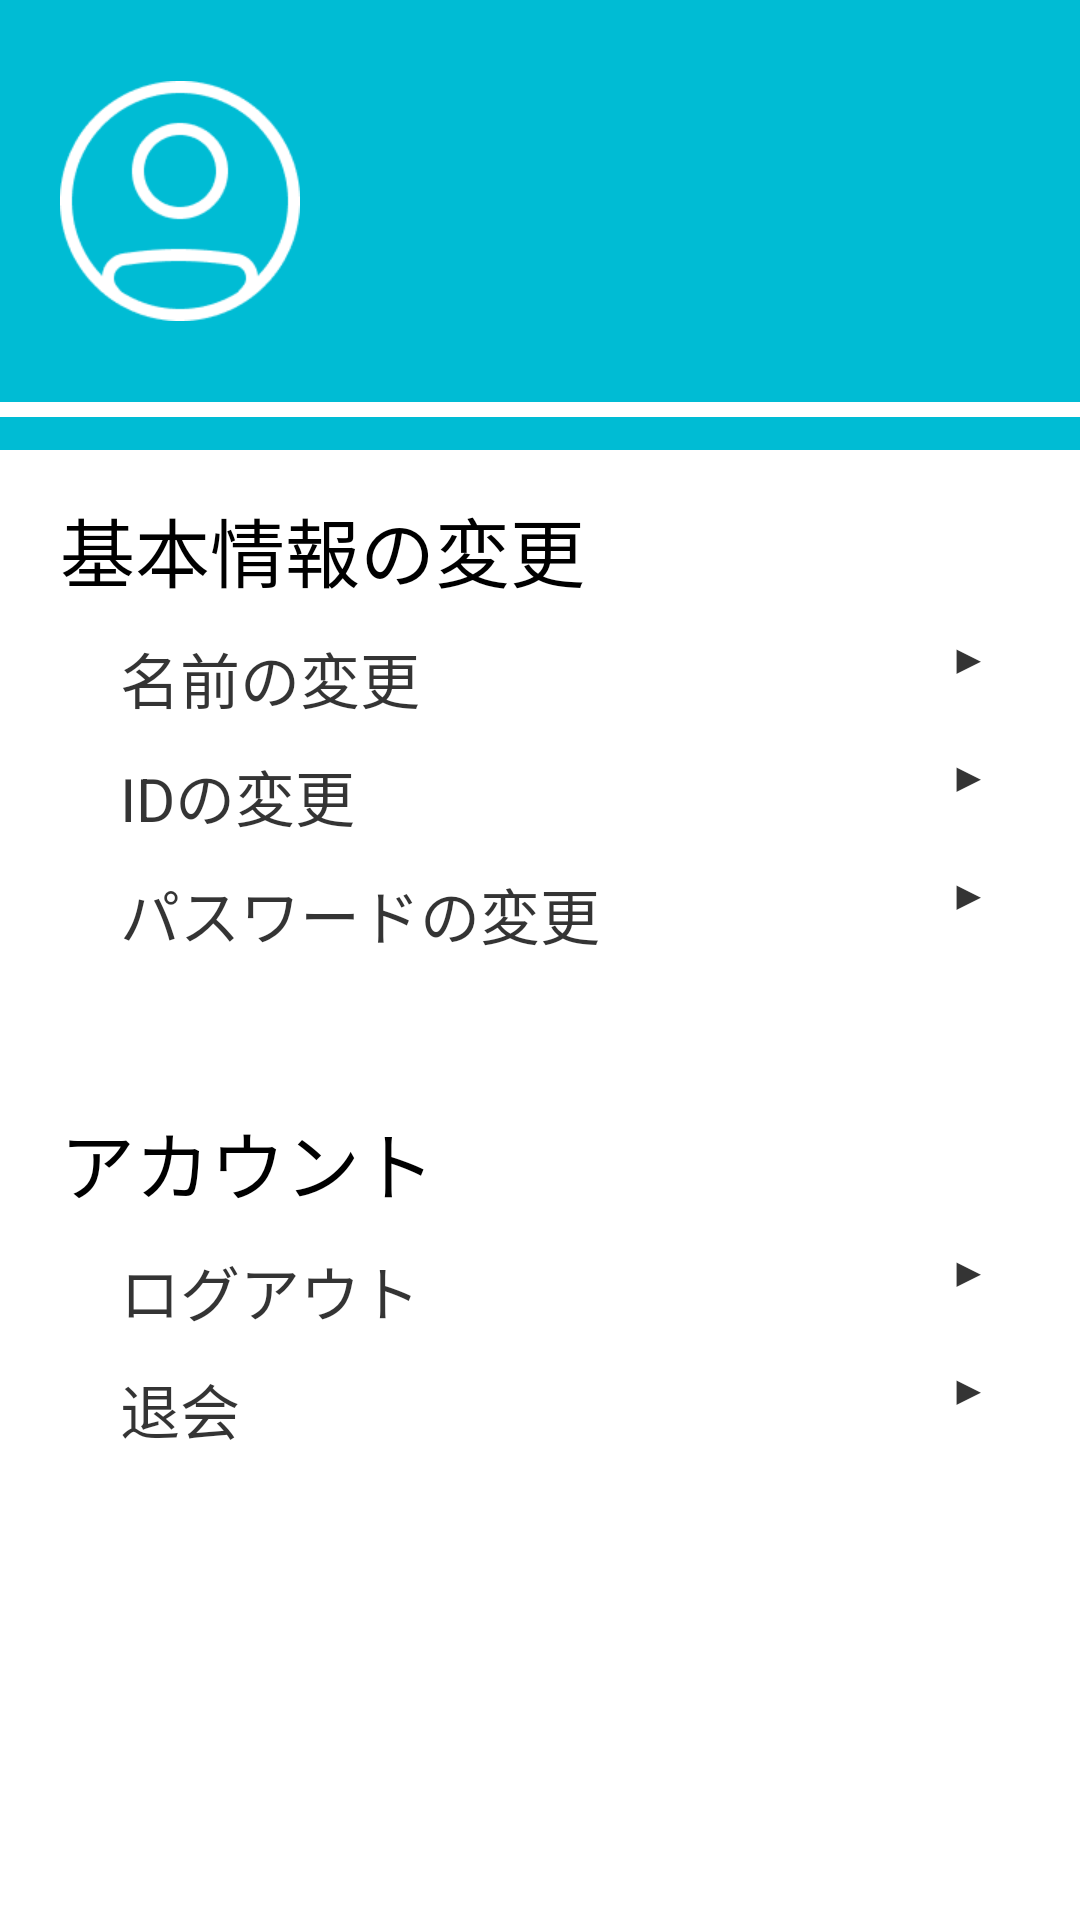

Icon click points for this 1080px×1920px phone screenshot, format (x=x, y=y):
mypage: (x=180, y=201)
